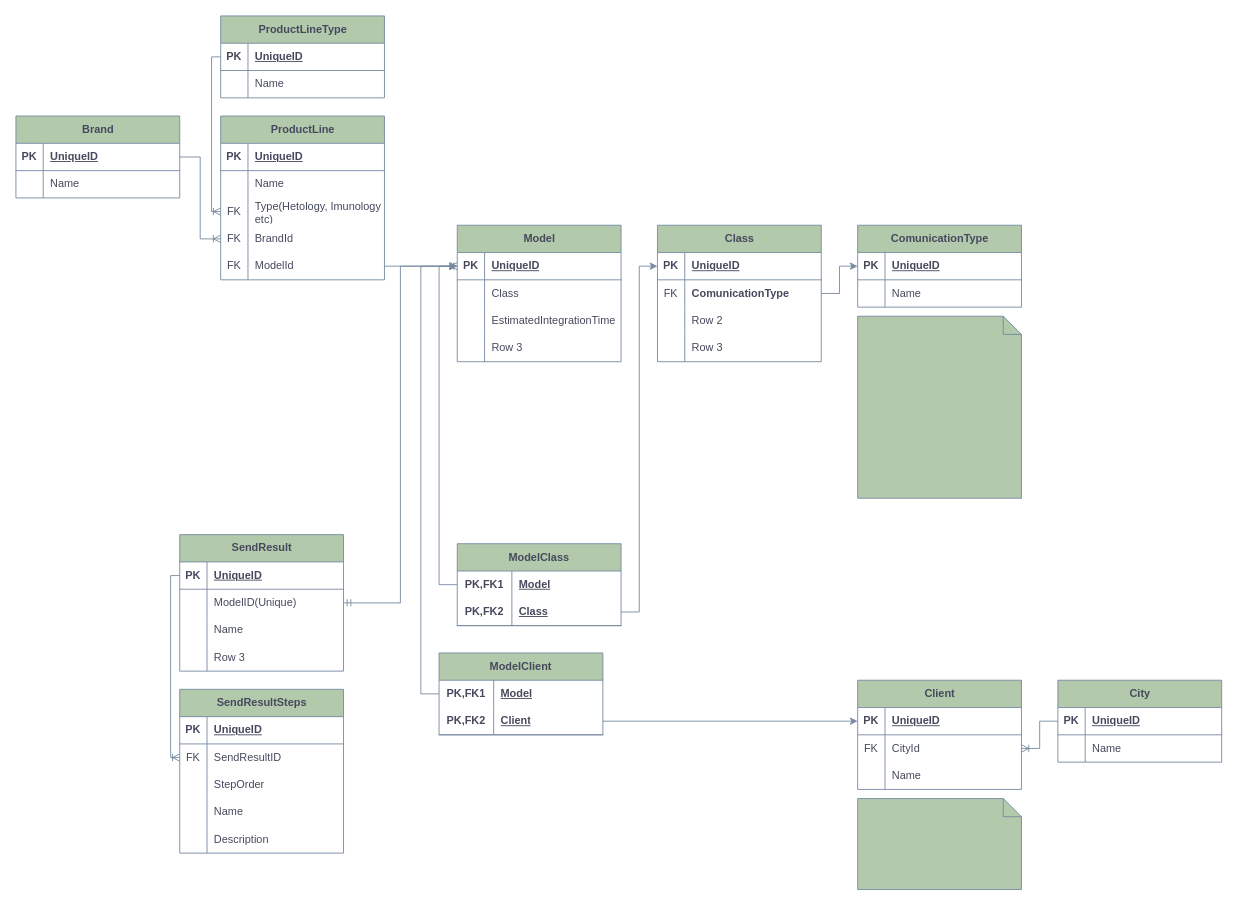
Image size: 1238x905. Some labels were removed from this diagram. Each missing label, with the centre of its shape:
"ComunicationType TCP/IP RS232 USB Има ли апарати по BT или Wifi?" belongs at pixel 939 406.
"Клиенти където са интегрирани апаратите" belongs at pixel 939 844.
